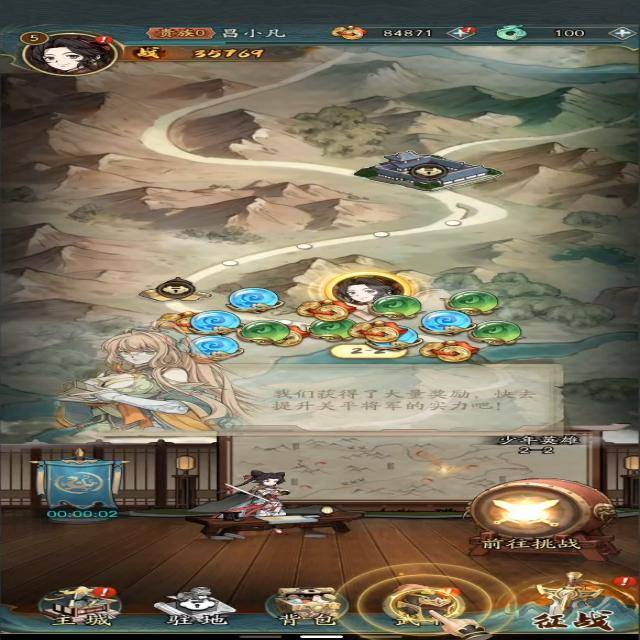hint-guide: (50, 329, 567, 440), (335, 565, 523, 640)
hint-reddot: (89, 583, 124, 600), (430, 584, 462, 600), (602, 575, 640, 588), (85, 33, 116, 44), (459, 24, 476, 36)
navigation-bag: (260, 582, 355, 629)
navigation-fight: (498, 572, 640, 634)
navigation-hero: (370, 580, 479, 630)
navigation-main: (28, 580, 135, 628)
navigation-role: (9, 25, 130, 83)
navigation-station-off: (148, 581, 242, 631)
operation-challenge: (463, 477, 605, 551)
